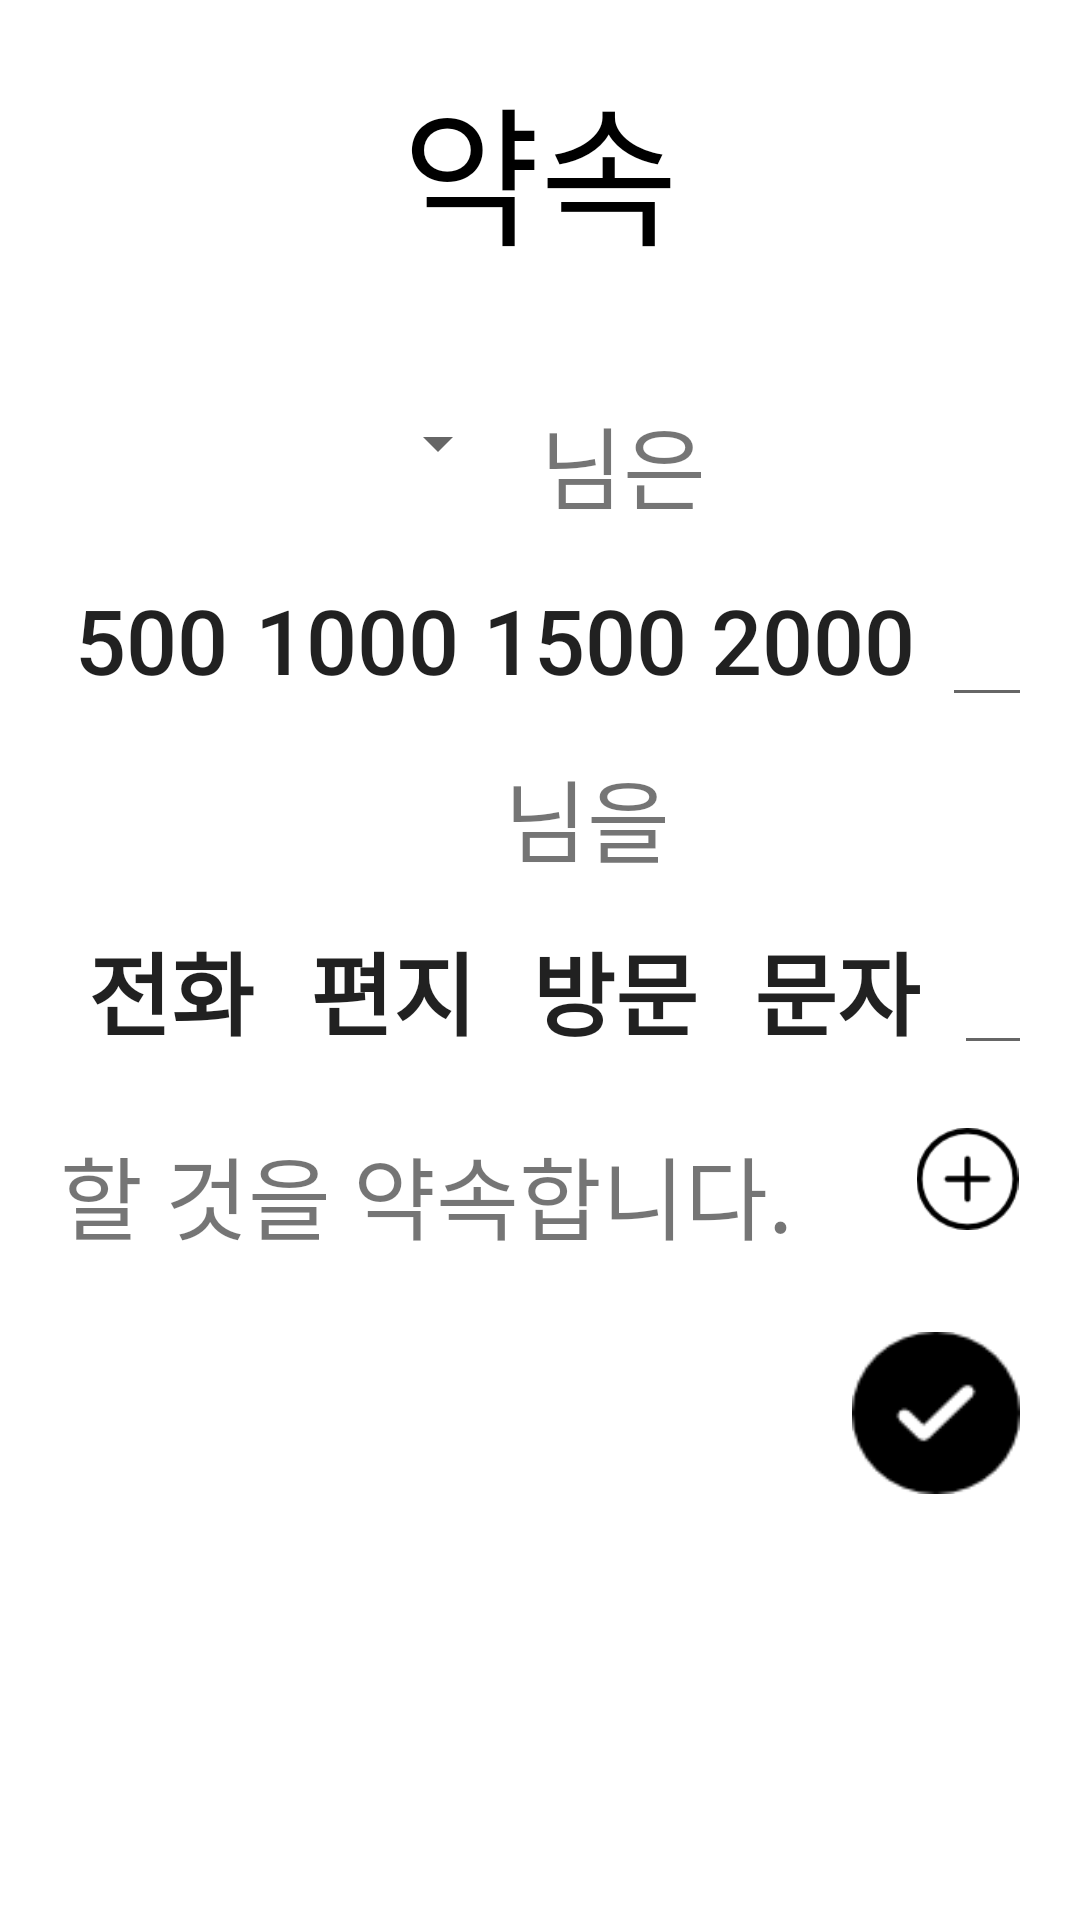

Named icons in this screenshot (1080×1920) and their bounding boxes, (x1, y1, x2, y2):
plus: (917, 1128, 1019, 1230)
